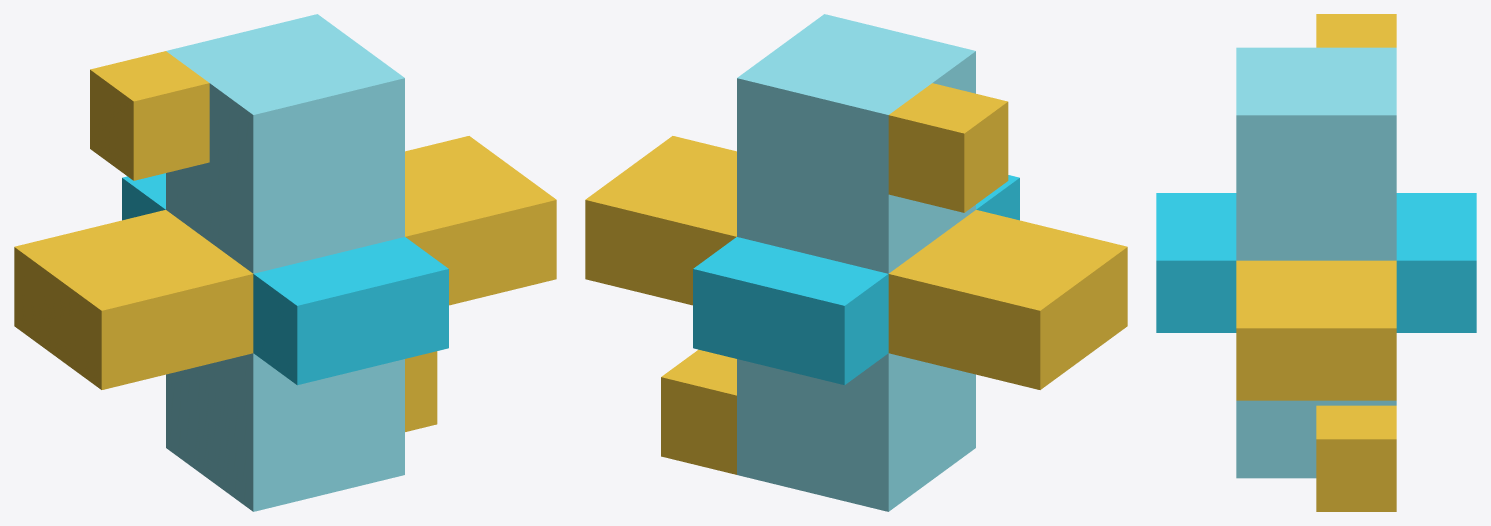
Rendered from fx_spark.glb.
3 renders of one model, left to right at view 1: azimuth 30°, elevation 25°; view 2: azimuth 150°, elevation 25°; view 3: azimuth 270°, elevation 25°, orthographic. The views are drawn at different scales.
Parts seen in each view (by area): view 1: Core mesh, Bolt mesh, Tip mesh; view 2: Bolt mesh, Core mesh, Tip mesh; view 3: Bolt mesh, Core mesh, Tip mesh.
Part boxes in pixels (x1,y1,x2,y2): Core mesh: (166,14,404,511); Bolt mesh: (14,136,556,389); Tip mesh: (90,51,437,431); Bolt mesh: (585,136,1127,389); Core mesh: (737,14,975,511); Tip mesh: (661,83,1008,474); Bolt mesh: (1156,193,1476,400); Core mesh: (1236,47,1396,478); Tip mesh: (1316,14,1396,511).
Size of the model in its own units: 6 by 5 by 4.
1 material, 1 textured.
